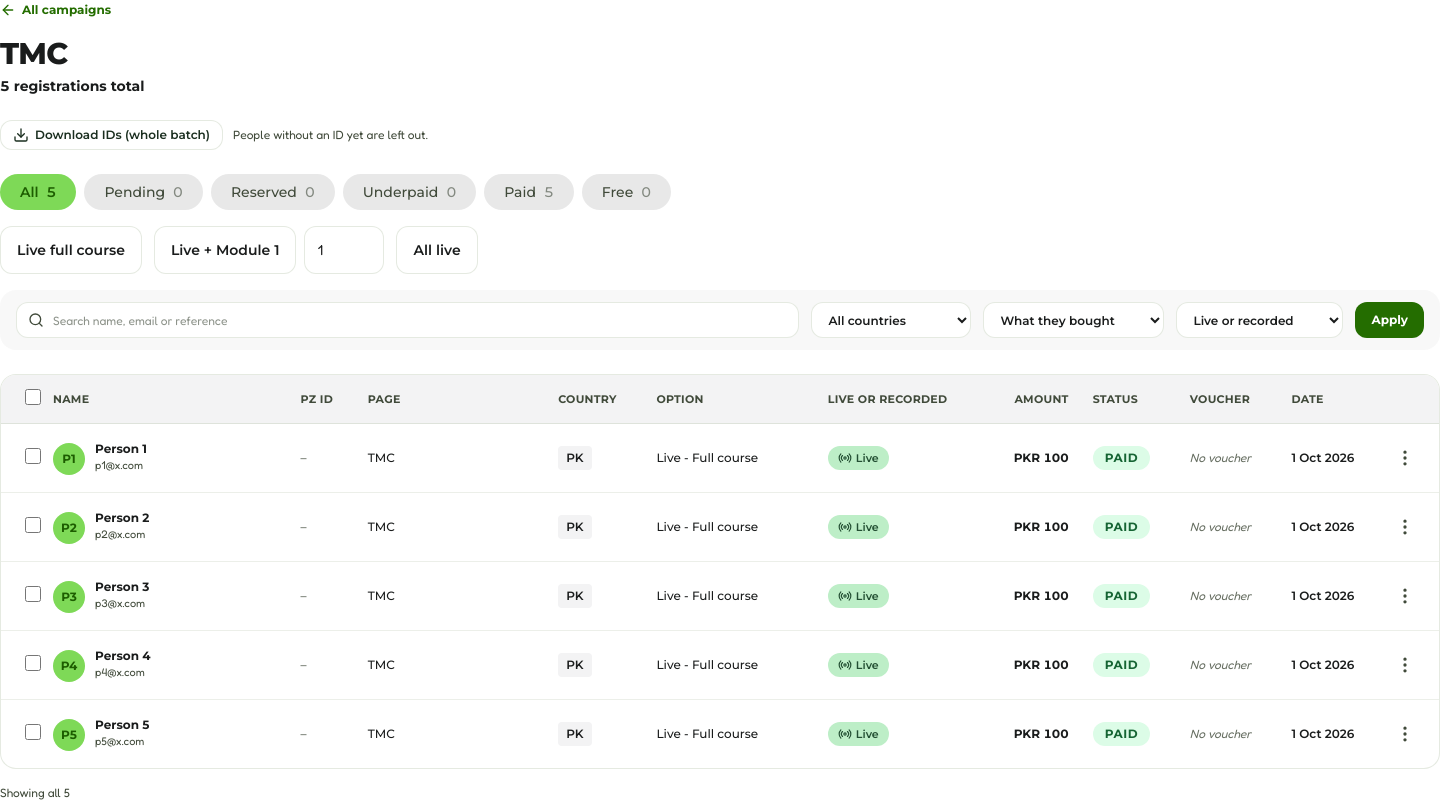
Scenario: Email their IDs › opens the email builder with the selection and the starter subject and message
Click the checkbox named "Select Person 1" at (33, 456), box x1=25 y1=448 x2=41 y2=464
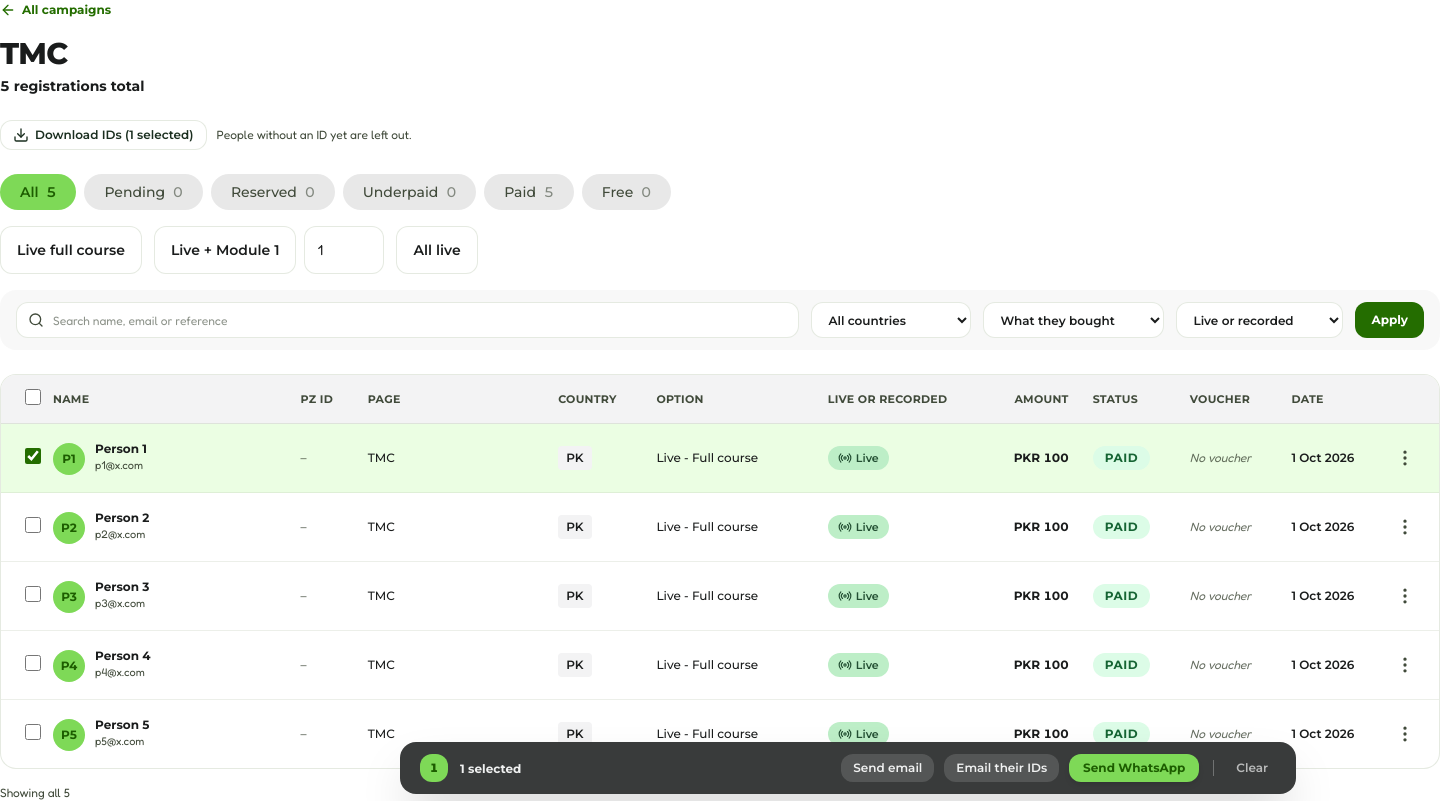
Click the checkbox named "Select Person 3" at (33, 594), box x1=25 y1=586 x2=41 y2=602
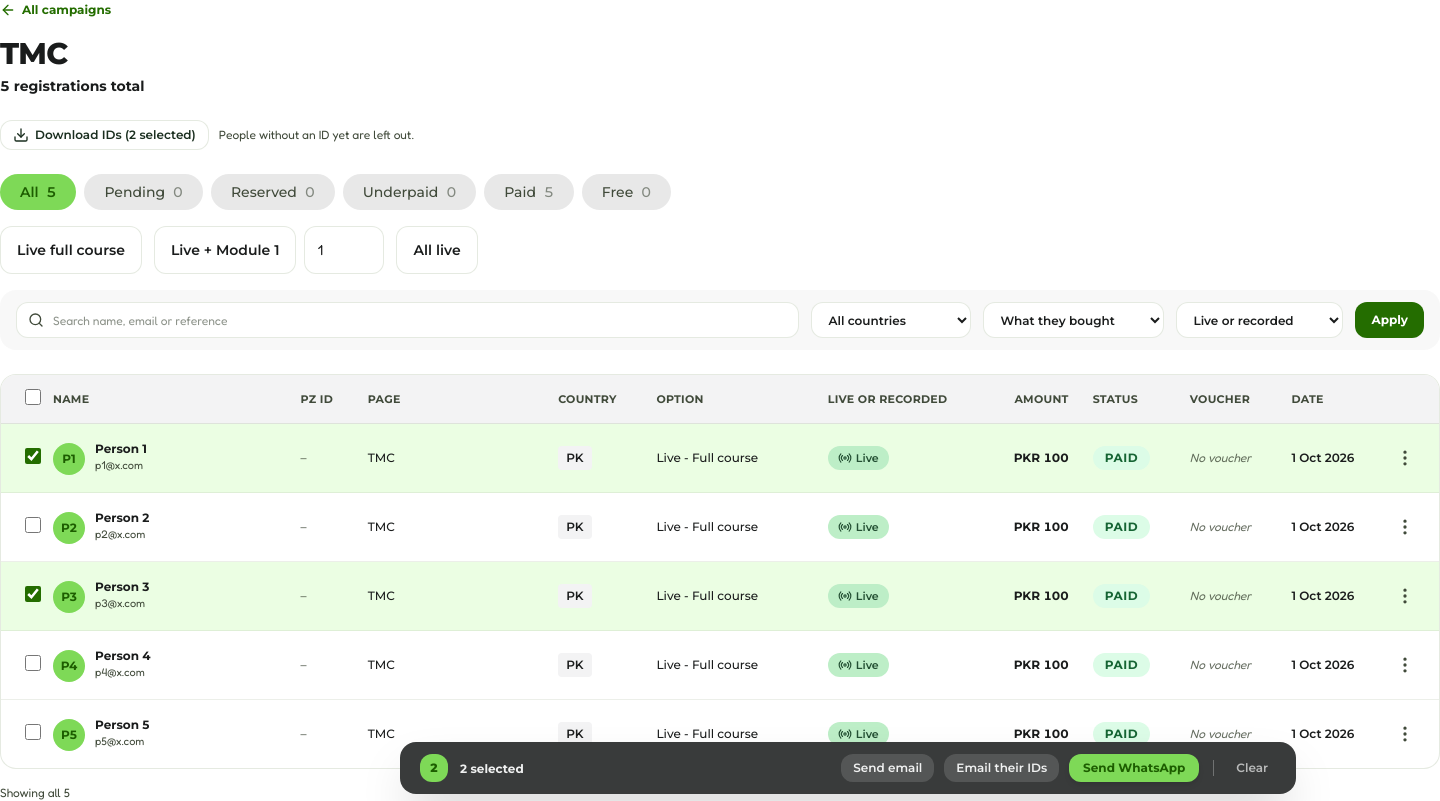
Click the button "Email their IDs" at (1002, 768), box x1=944 y1=754 x2=1059 y2=782
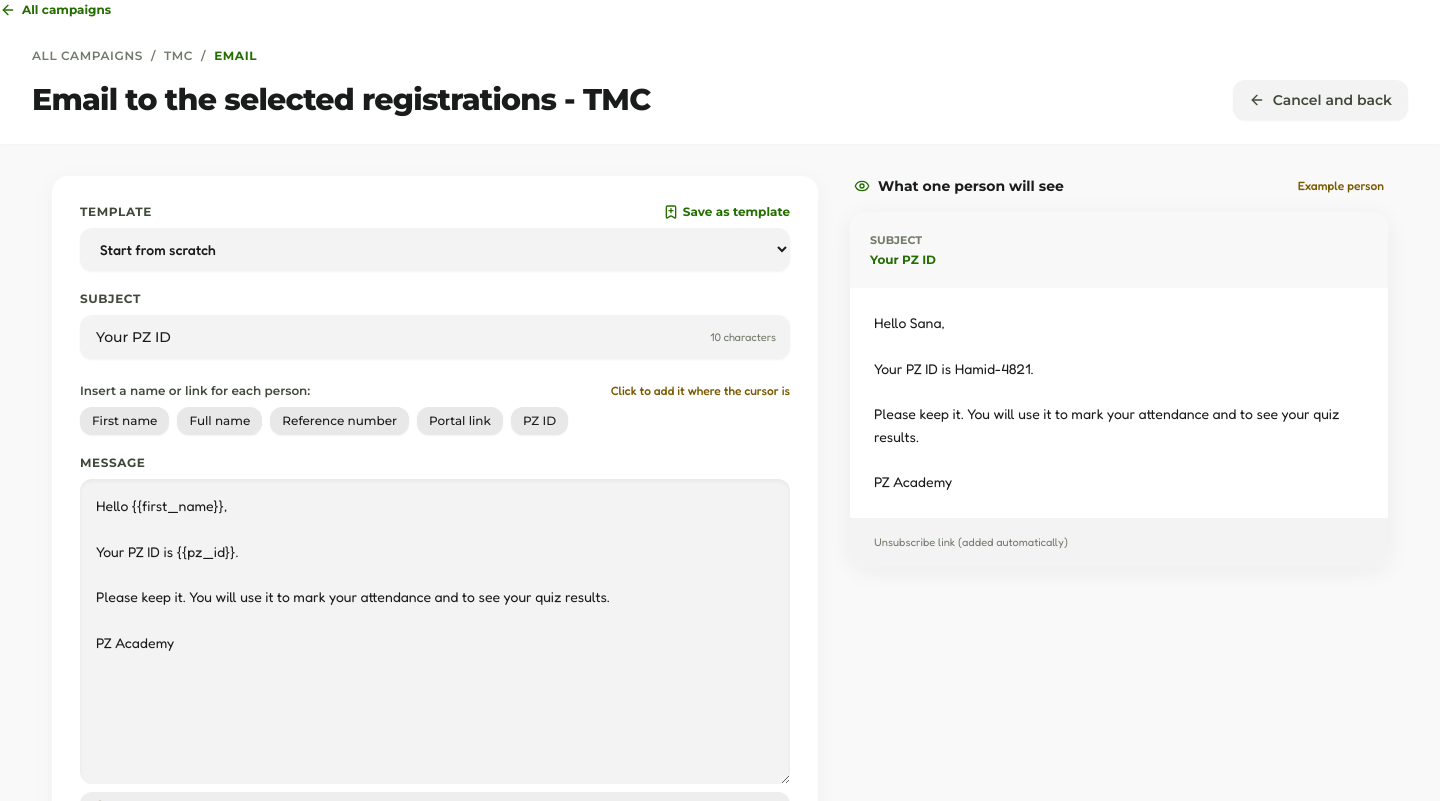
Expected: the field labelled "Subject" holds "Your PZ ID", x1=80 y1=315 x2=790 y2=359
